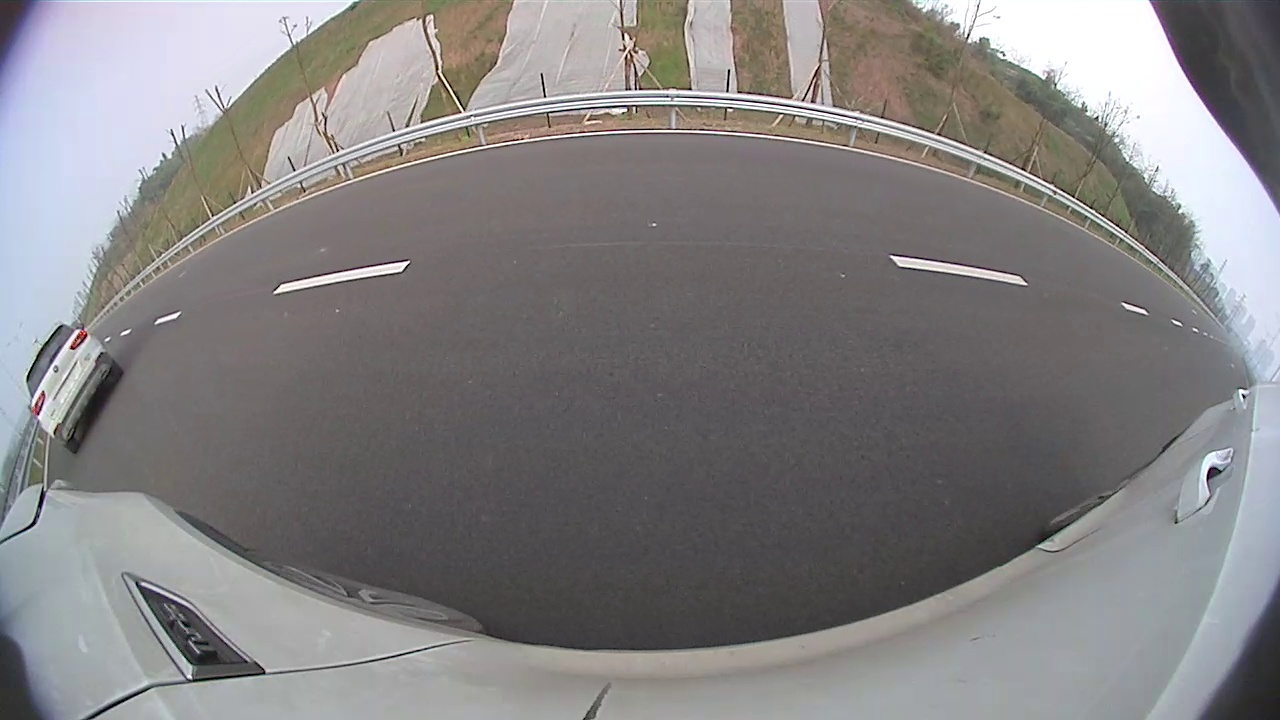car: (447, 143, 561, 221)
rear: (523, 179, 537, 211)
